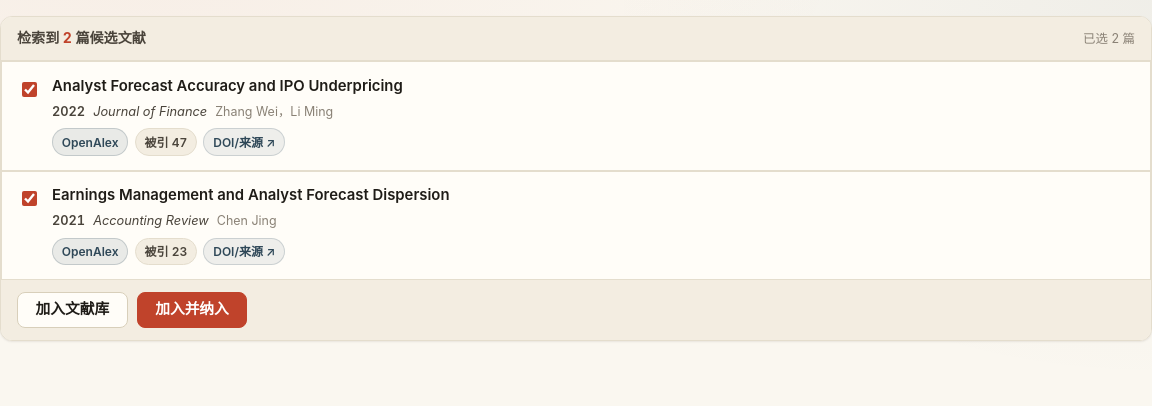
Test: SearchCandidateCards › 入库成功后显示 imported/skipped 计数反馈
Click the button "加入文献库": (72, 310) [17,292,128,328]
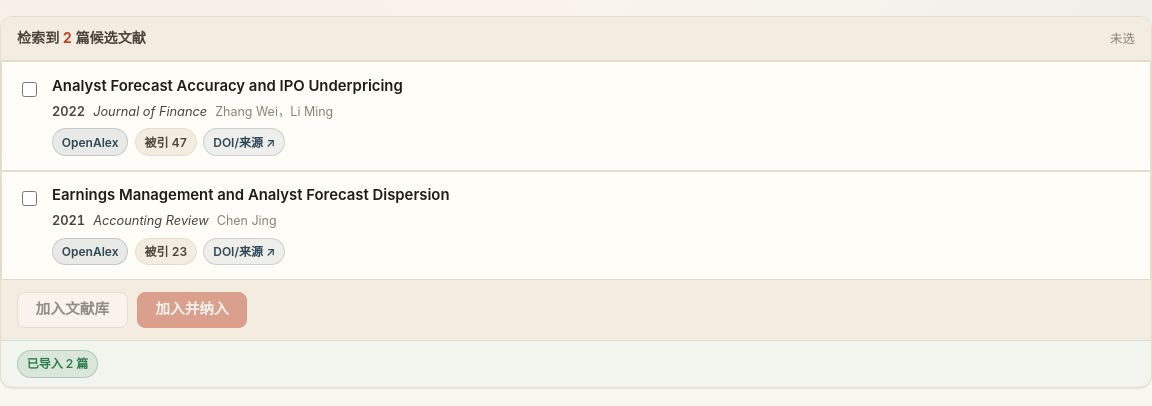
expect the text "已导入 2 篇" is shown: met, box [17,350,98,378]
